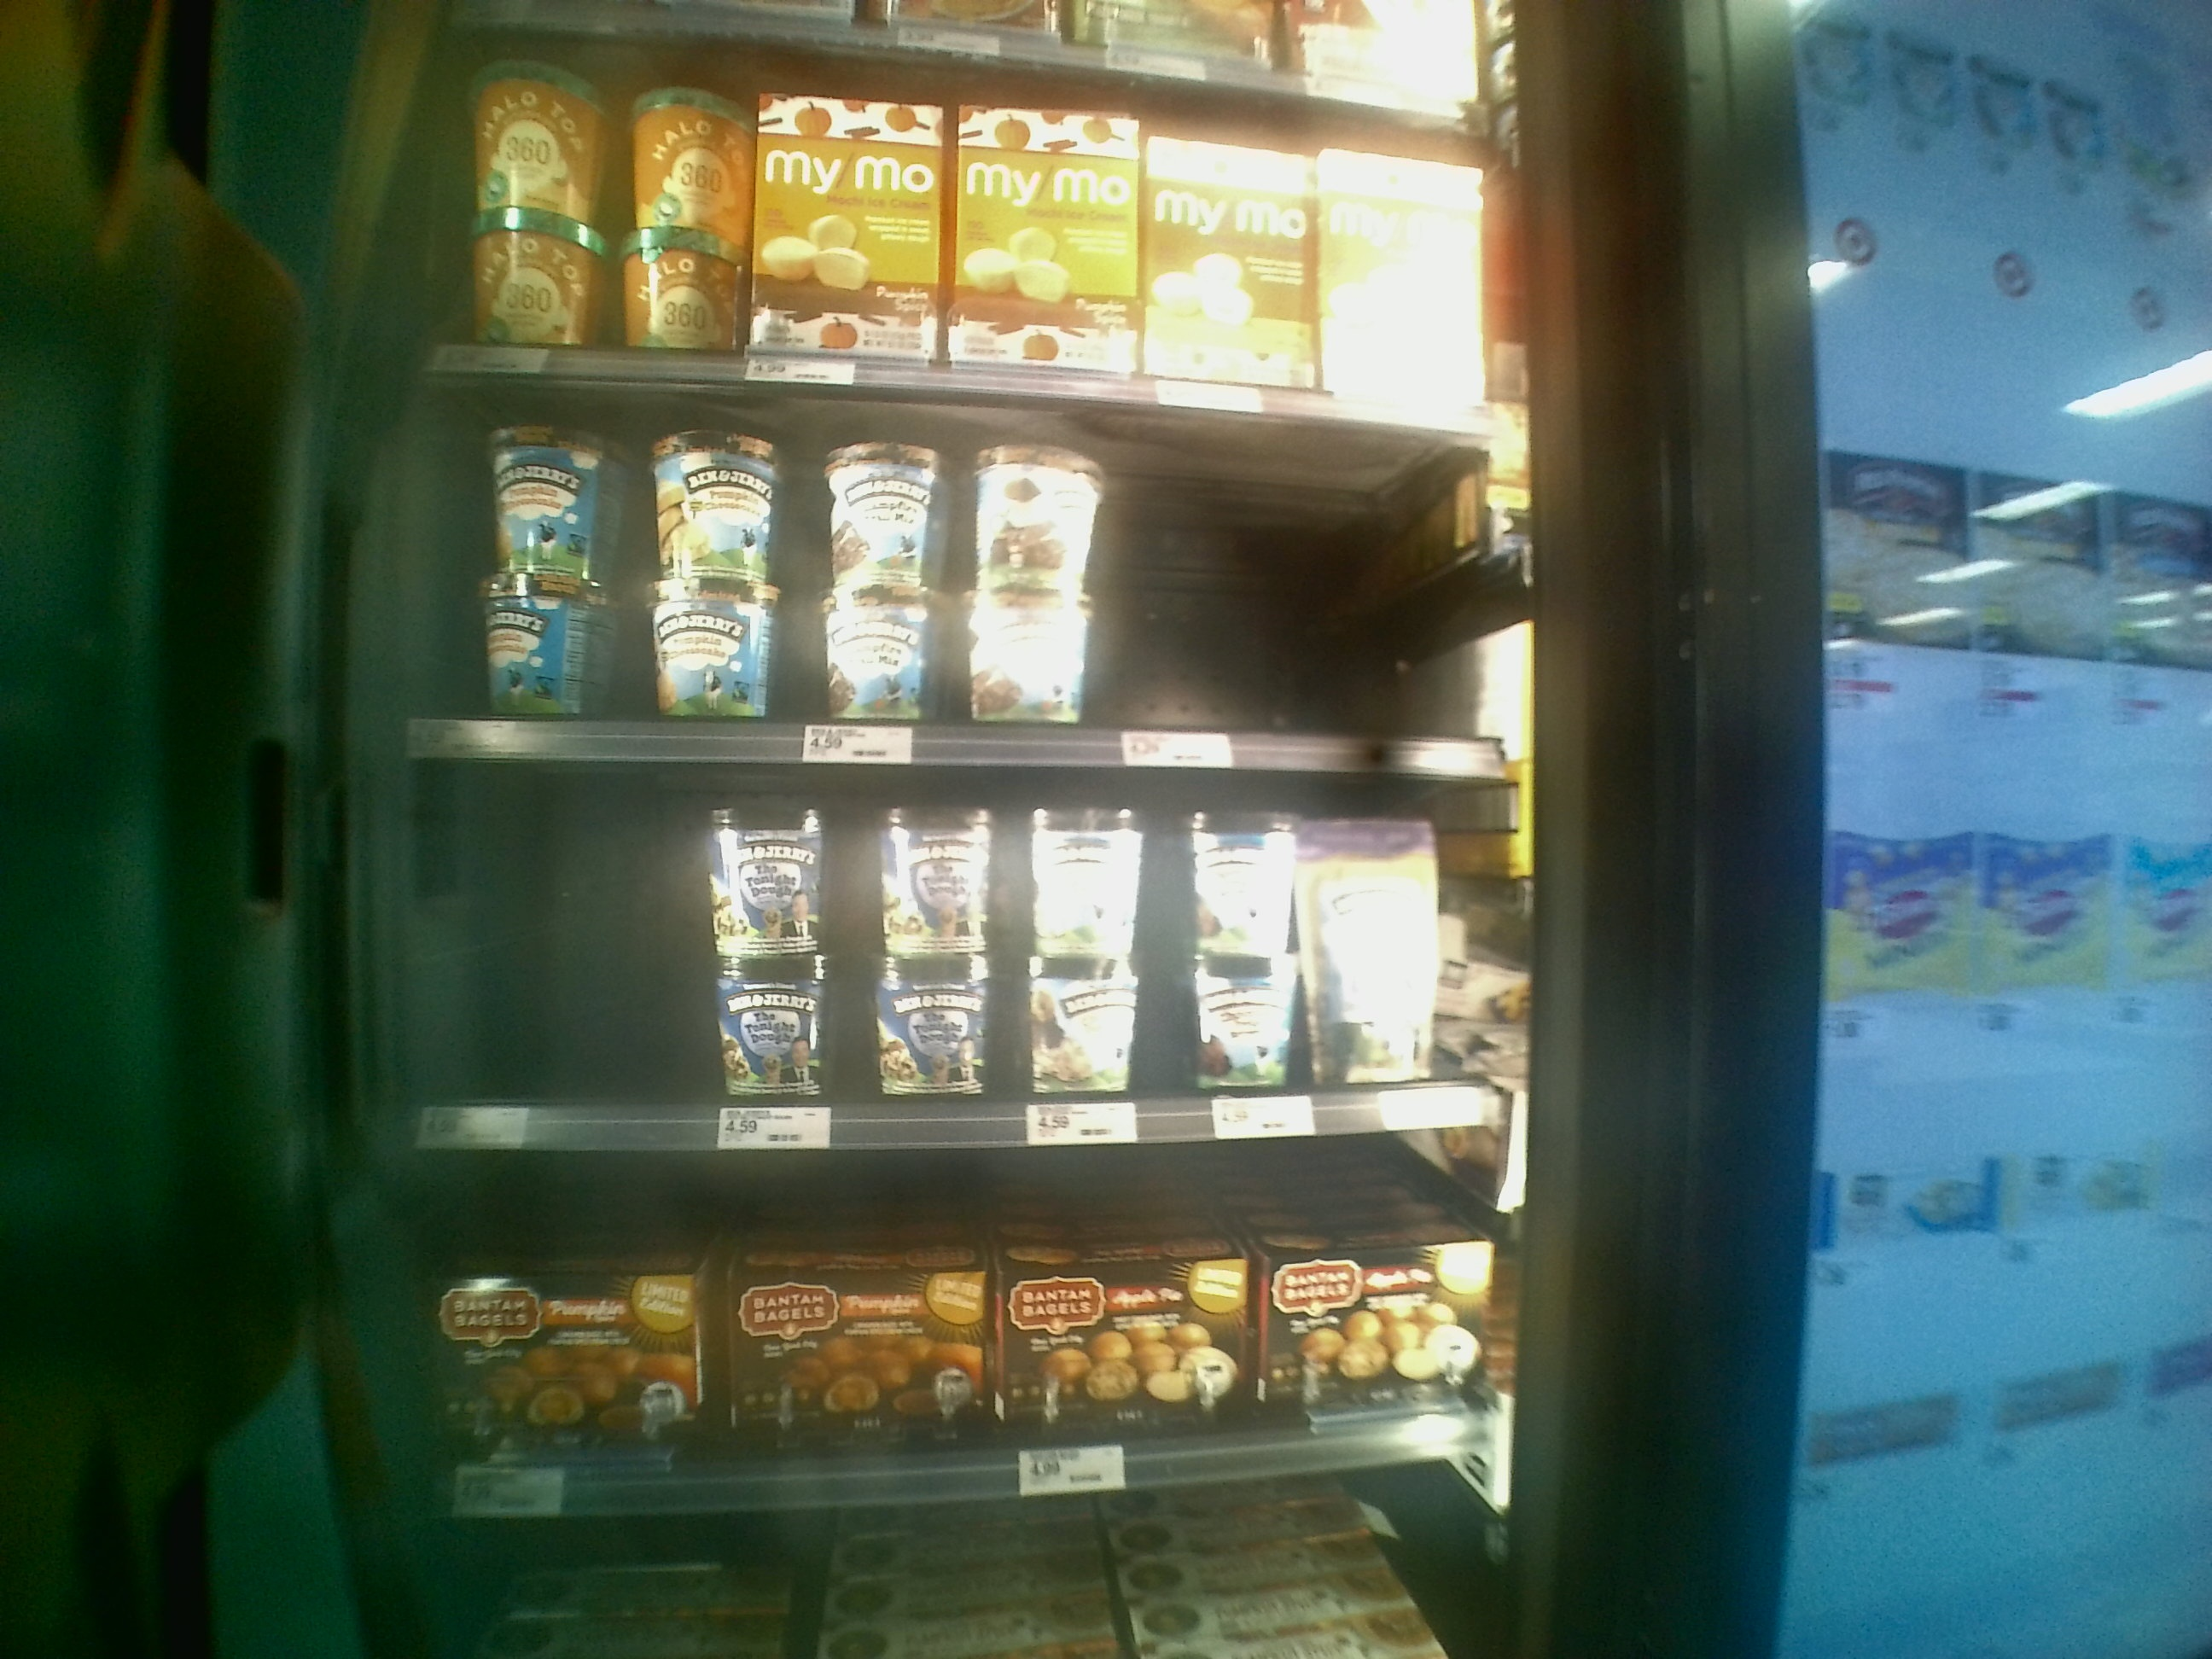shelf: (402, 364, 1545, 791), (387, 760, 1561, 1148), (387, 1138, 1517, 1500)
